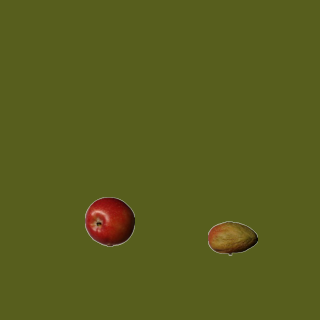Apple Braeburn: (84, 196, 134, 246)
Papaya: (207, 213, 257, 263)
